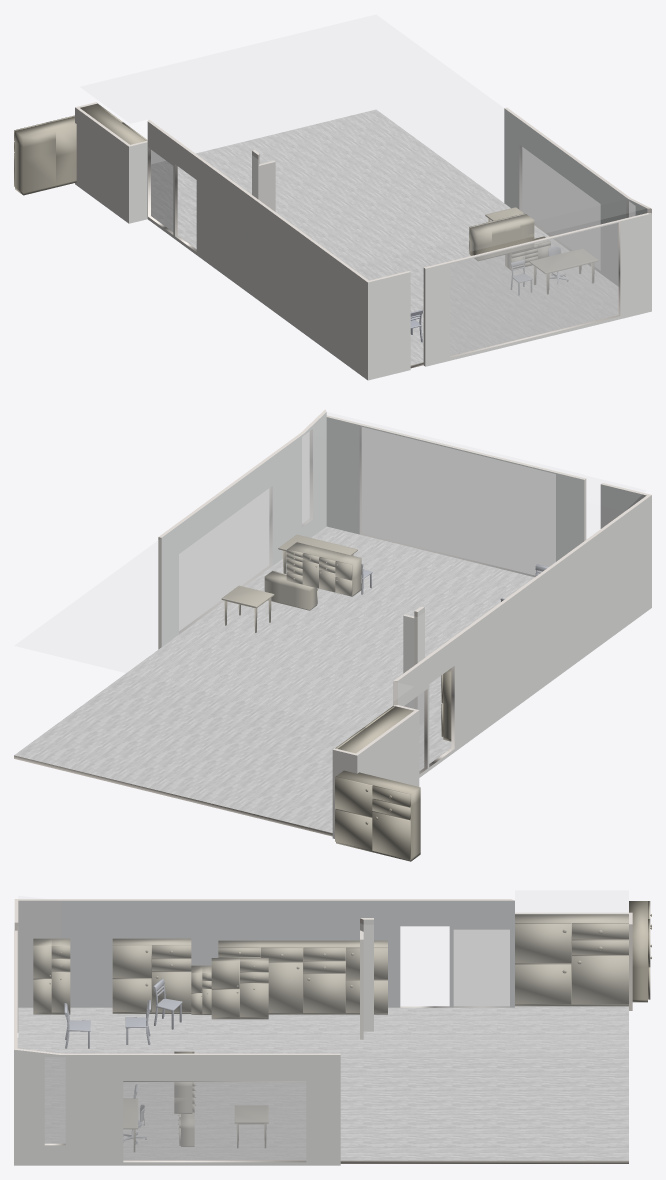
The model's file is Staff room p4, iffy.fbx.
3 views of the same model, one above another, from view 1: azimuth 30°, elevation 25°; view 2: azimuth 150°, elevation 25°; view 3: azimuth 270°, elevation 25° (orthographic). The views are drawn at different scales.
Visible parts, largest first — view 1: node_45e7affc_a432_4840_9416_07b9d7979b19_mesh0, node_0016088f_990a_41b1_9dcd_c54c21ae62c5_mesh0, node_6a54429b_640f_4bab_9f44_5ac3ed0120bc_mesh0, node_b57ac5c6_281d_4408_ae98_f66d8a8ce6c6_mesh0, node_0d6ebd5a_0e69_4130_9d94_9c19dde417bc_mesh0, node_e4c3ea03_c688_41a0_a7e0_49e1d7f78034_mesh0, node_e1931d62_0ed7_4e9b_826d_81fb6ccc964f_mesh0, node_50db83d8_f92d_4c65_b2a5_5fac55bf4210_mesh0, node_4d637bc6_9828_4d63_b341_9d73b9cec589_mesh0, node_fcbdbb77_fb1a_446b_bc53_1e42fb827995_mesh0, node_ffcfdbd7_fd2c_4711_b185_2832b6ca0e0e_mesh0, node_eb699a0c_252c_4b2b_852c_8124e8d9dc18_mesh0 (+13 smaller); view 2: node_45e7affc_a432_4840_9416_07b9d7979b19_mesh0, node_0016088f_990a_41b1_9dcd_c54c21ae62c5_mesh0, node_6a54429b_640f_4bab_9f44_5ac3ed0120bc_mesh0, node_b57ac5c6_281d_4408_ae98_f66d8a8ce6c6_mesh0, node_0d6ebd5a_0e69_4130_9d94_9c19dde417bc_mesh0, node_e4c3ea03_c688_41a0_a7e0_49e1d7f78034_mesh0, node_50db83d8_f92d_4c65_b2a5_5fac55bf4210_mesh0, node_a753d4e2_b828_4f1f_9317_f4f70fc71760_mesh0, node_4d637bc6_9828_4d63_b341_9d73b9cec589_mesh0, node_fcbdbb77_fb1a_446b_bc53_1e42fb827995_mesh0, node_eb699a0c_252c_4b2b_852c_8124e8d9dc18_mesh0, node_daf5c467_97be_457b_957e_b31c9b0a020a_mesh0 (+19 smaller); view 3: node_45e7affc_a432_4840_9416_07b9d7979b19_mesh0, node_0016088f_990a_41b1_9dcd_c54c21ae62c5_mesh0, node_6a54429b_640f_4bab_9f44_5ac3ed0120bc_mesh0, node_d17e4cd0_105c_4b66_a2c9_e4d380ba623c_mesh0, node_57589b53_d2cc_4220_9a63_07ef3f013f7a_mesh0, node_4d637bc6_9828_4d63_b341_9d73b9cec589_mesh0, node_fcbdbb77_fb1a_446b_bc53_1e42fb827995_mesh0, node_e29e57e0_4be2_49e3_a458_cd1c2c744f3d_mesh0, node_bac62fcc_cae6_47a2_a493_d80fe4f9d1bf_mesh0, node_a753d4e2_b828_4f1f_9317_f4f70fc71760_mesh0, node_1cb9f90d_b7ce_496f_a4b7_200b685aae1e_mesh0, node_661bc6e2_fb65_4541_8a77_7138290ceba4_mesh0 (+20 smaller).
Boxes of the visible parts, x1,y1,x2,y2 form: node_45e7affc_a432_4840_9416_07b9d7979b19_mesh0: [151, 109, 618, 365]; node_0016088f_990a_41b1_9dcd_c54c21ae62c5_mesh0: [81, 15, 502, 175]; node_6a54429b_640f_4bab_9f44_5ac3ed0120bc_mesh0: [227, 109, 626, 265]; node_b57ac5c6_281d_4408_ae98_f66d8a8ce6c6_mesh0: [147, 121, 367, 380]; node_0d6ebd5a_0e69_4130_9d94_9c19dde417bc_mesh0: [450, 223, 618, 355]; node_e4c3ea03_c688_41a0_a7e0_49e1d7f78034_mesh0: [450, 223, 618, 355]; node_e1931d62_0ed7_4e9b_826d_81fb6ccc964f_mesh0: [425, 213, 651, 366]; node_50db83d8_f92d_4c65_b2a5_5fac55bf4210_mesh0: [504, 108, 647, 286]; node_4d637bc6_9828_4d63_b341_9d73b9cec589_mesh0: [519, 145, 600, 236]; node_fcbdbb77_fb1a_446b_bc53_1e42fb827995_mesh0: [519, 146, 600, 236]; node_ffcfdbd7_fd2c_4711_b185_2832b6ca0e0e_mesh0: [368, 272, 410, 380]; node_eb699a0c_252c_4b2b_852c_8124e8d9dc18_mesh0: [14, 115, 76, 195]; node_45e7affc_a432_4840_9416_07b9d7979b19_mesh0: [14, 526, 534, 832]; node_0016088f_990a_41b1_9dcd_c54c21ae62c5_mesh0: [15, 538, 480, 728]; node_6a54429b_640f_4bab_9f44_5ac3ed0120bc_mesh0: [162, 434, 623, 615]; node_b57ac5c6_281d_4408_ae98_f66d8a8ce6c6_mesh0: [398, 495, 651, 777]; node_0d6ebd5a_0e69_4130_9d94_9c19dde417bc_mesh0: [359, 426, 555, 576]; node_e4c3ea03_c688_41a0_a7e0_49e1d7f78034_mesh0: [359, 427, 555, 576]; node_50db83d8_f92d_4c65_b2a5_5fac55bf4210_mesh0: [161, 412, 326, 646]; node_a753d4e2_b828_4f1f_9317_f4f70fc71760_mesh0: [306, 412, 645, 510]; node_4d637bc6_9828_4d63_b341_9d73b9cec589_mesh0: [179, 486, 272, 633]; node_fcbdbb77_fb1a_446b_bc53_1e42fb827995_mesh0: [179, 486, 272, 633]; node_eb699a0c_252c_4b2b_852c_8124e8d9dc18_mesh0: [335, 770, 420, 861]; node_daf5c467_97be_457b_957e_b31c9b0a020a_mesh0: [326, 417, 584, 561]; node_45e7affc_a432_4840_9416_07b9d7979b19_mesh0: [17, 1006, 628, 1160]; node_0016088f_990a_41b1_9dcd_c54c21ae62c5_mesh0: [341, 891, 628, 1052]; node_6a54429b_640f_4bab_9f44_5ac3ed0120bc_mesh0: [62, 901, 339, 1052]; node_d17e4cd0_105c_4b66_a2c9_e4d380ba623c_mesh0: [18, 900, 514, 1007]; node_57589b53_d2cc_4220_9a63_07ef3f013f7a_mesh0: [14, 1050, 340, 1165]; node_4d637bc6_9828_4d63_b341_9d73b9cec589_mesh0: [123, 1082, 305, 1160]; node_fcbdbb77_fb1a_446b_bc53_1e42fb827995_mesh0: [123, 1082, 305, 1160]; node_e29e57e0_4be2_49e3_a458_cd1c2c744f3d_mesh0: [515, 914, 628, 1006]; node_bac62fcc_cae6_47a2_a493_d80fe4f9d1bf_mesh0: [218, 940, 387, 1014]; node_a753d4e2_b828_4f1f_9317_f4f70fc71760_mesh0: [18, 896, 60, 1052]; node_1cb9f90d_b7ce_496f_a4b7_200b685aae1e_mesh0: [112, 938, 191, 1013]; node_661bc6e2_fb65_4541_8a77_7138290ceba4_mesh0: [454, 930, 509, 1007].
Size of the model in its own units: 1246 by 344 by 1718.
Materials: 11 (1 with a texture image).
